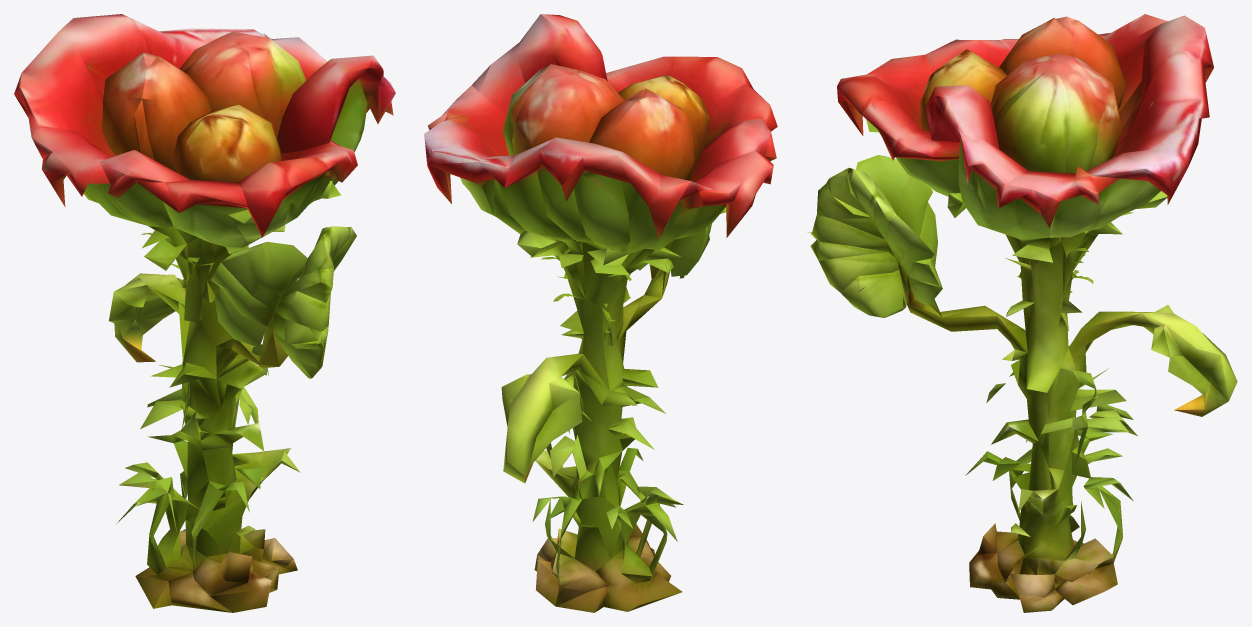
File: m2SnapperPlant.glb
3 renders of one model, left to right at view 1: azimuth 30°, elevation 25°; view 2: azimuth 150°, elevation 25°; view 3: azimuth 270°, elevation 25°, orthographic. The views are drawn at different scales.
Visible parts, largest first — view 1: model; view 2: model; view 3: model.
Part boxes in pixels (box(x1,y1,x2,y2)): model: box(14, 14, 395, 612); model: box(424, 14, 777, 612); model: box(807, 14, 1237, 612).
Bounding box in the file's own units: 1.21 × 1.9 × 1.38.
Materials: 1 (1 with a texture image).
